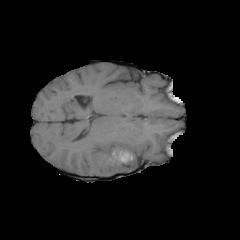glioma: (95, 118, 137, 170)
